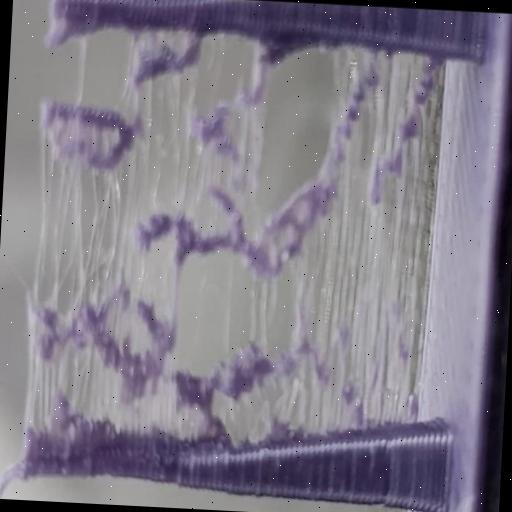stringing: (25, 21, 450, 463)
